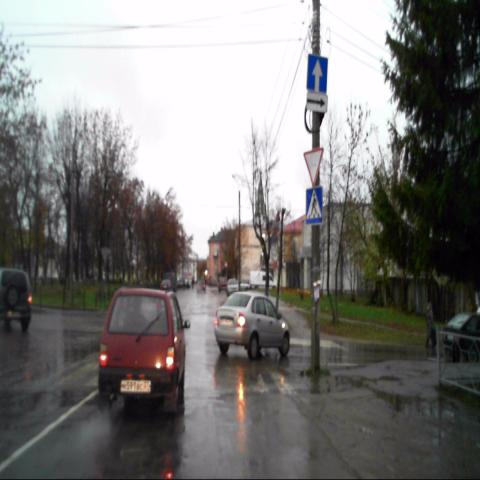8_3_1: (306, 92, 328, 113)
